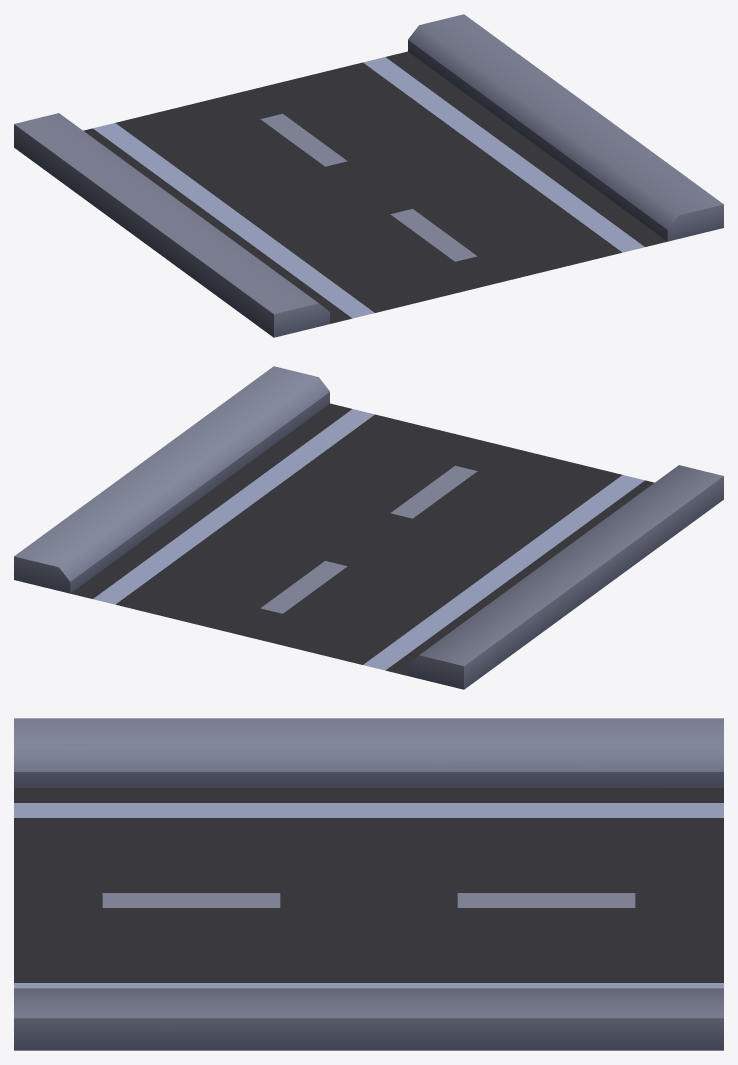
The model's file is citykit_road_straight.glb.
3 renders of one model, top to bottom at view 1: azimuth 30°, elevation 25°; view 2: azimuth 150°, elevation 25°; view 3: azimuth 270°, elevation 25°, orthographic. The views are drawn at different scales.
Parts seen in each view (by area): view 1: road-straight; view 2: road-straight; view 3: road-straight.
Boxes of the visible parts, box(x1,y1,x2,y2) form: road-straight: box(14, 14, 723, 337); road-straight: box(14, 366, 723, 689); road-straight: box(14, 718, 723, 1050).
Size of the model in its own units: 1 by 0.05 by 1.
1 material, 1 textured.
